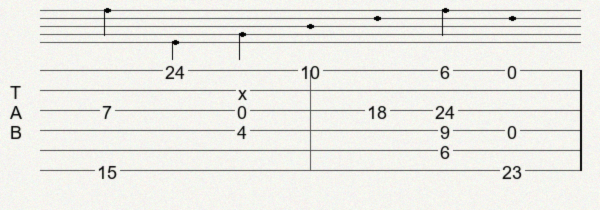0: (237, 102, 251, 119), (507, 122, 521, 139), (507, 62, 521, 79)
10: (300, 62, 324, 79)
15: (97, 162, 121, 179)
18: (367, 102, 391, 119)
23: (502, 162, 526, 179)
24: (165, 62, 189, 79), (435, 102, 459, 119)
4: (237, 122, 251, 139)
6: (440, 62, 454, 79), (440, 142, 454, 159)
7: (102, 102, 116, 119)
9: (440, 122, 454, 139)
x: (238, 83, 251, 97)
